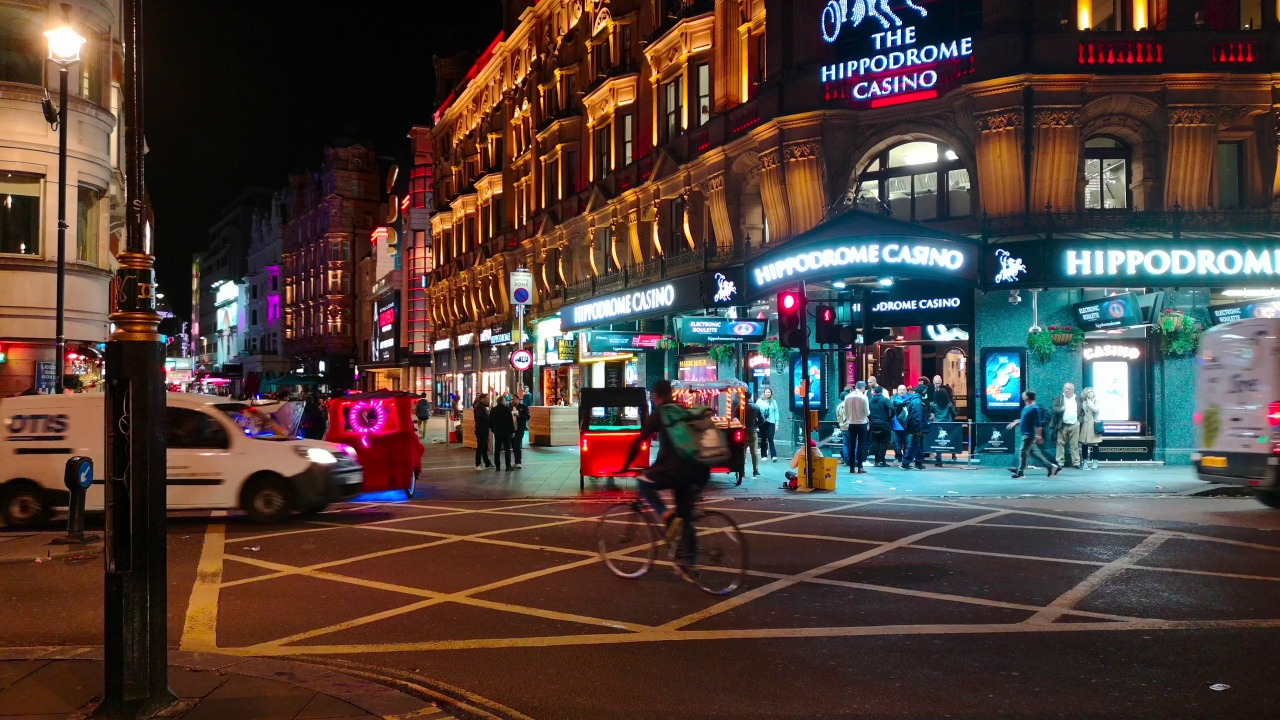car: (8, 413, 366, 524), (1199, 315, 1280, 520), (579, 392, 632, 487), (360, 402, 406, 485), (695, 386, 745, 424)
person: (644, 390, 699, 590), (779, 434, 827, 490), (1082, 393, 1112, 462), (850, 380, 870, 477), (491, 399, 514, 471), (909, 388, 926, 475), (1058, 383, 1075, 467), (1038, 393, 1055, 465), (934, 391, 951, 463), (762, 384, 778, 460), (1020, 392, 1034, 473), (872, 389, 888, 456), (472, 390, 485, 468), (747, 393, 757, 480), (418, 396, 436, 437), (519, 403, 529, 472), (868, 371, 885, 385), (928, 378, 948, 388), (836, 391, 843, 413)
